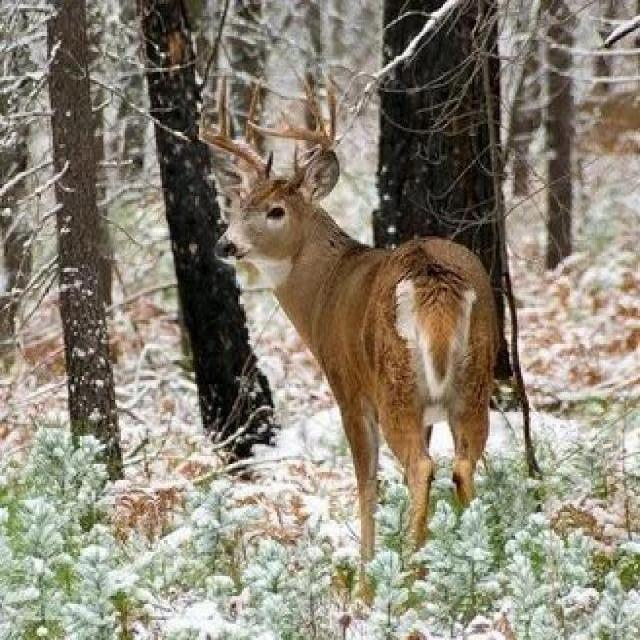deer: (112, 60, 547, 573)
